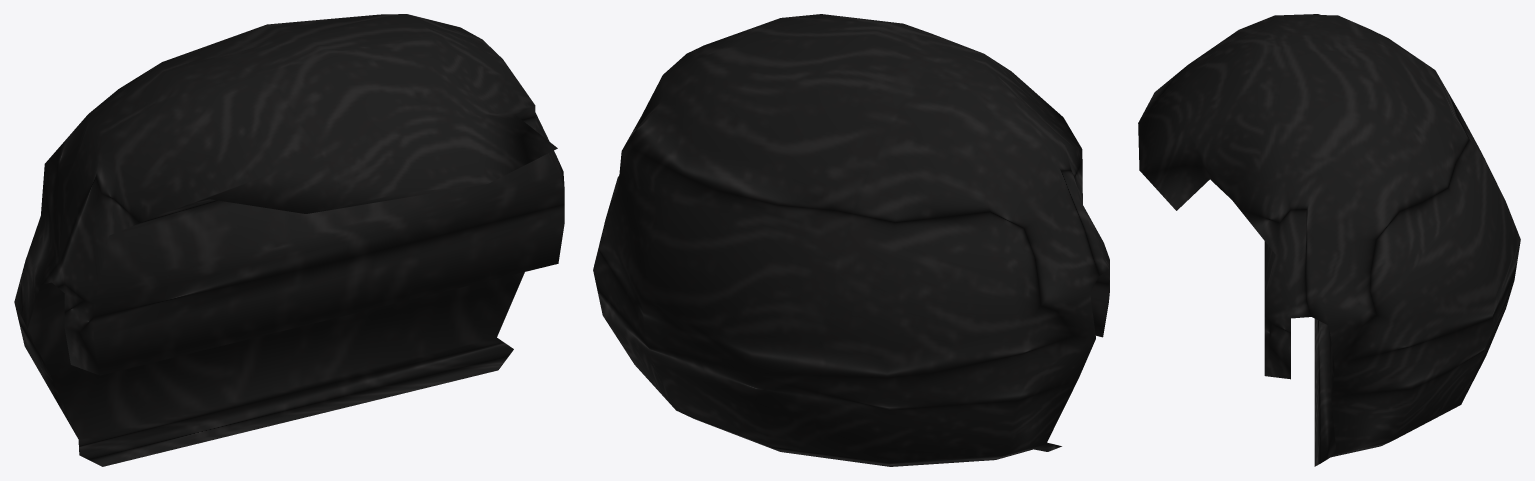
Rendered from hair_sidepart_richguy.fbx.
3 views of the same model, side by side, from view 1: azimuth 30°, elevation 25°; view 2: azimuth 150°, elevation 25°; view 3: azimuth 270°, elevation 25° (orthographic). The views are drawn at different scales.
Parts seen in each view (by area): view 1: richhair1:polySurface37; view 2: richhair1:polySurface37; view 3: richhair1:polySurface37.
Part boxes in pixels (x1,y1,x2,y2): richhair1:polySurface37: [14, 14, 564, 466]; richhair1:polySurface37: [593, 14, 1109, 466]; richhair1:polySurface37: [1138, 14, 1520, 466].
Size of the model in its own units: 12 by 8.5 by 8.78.
